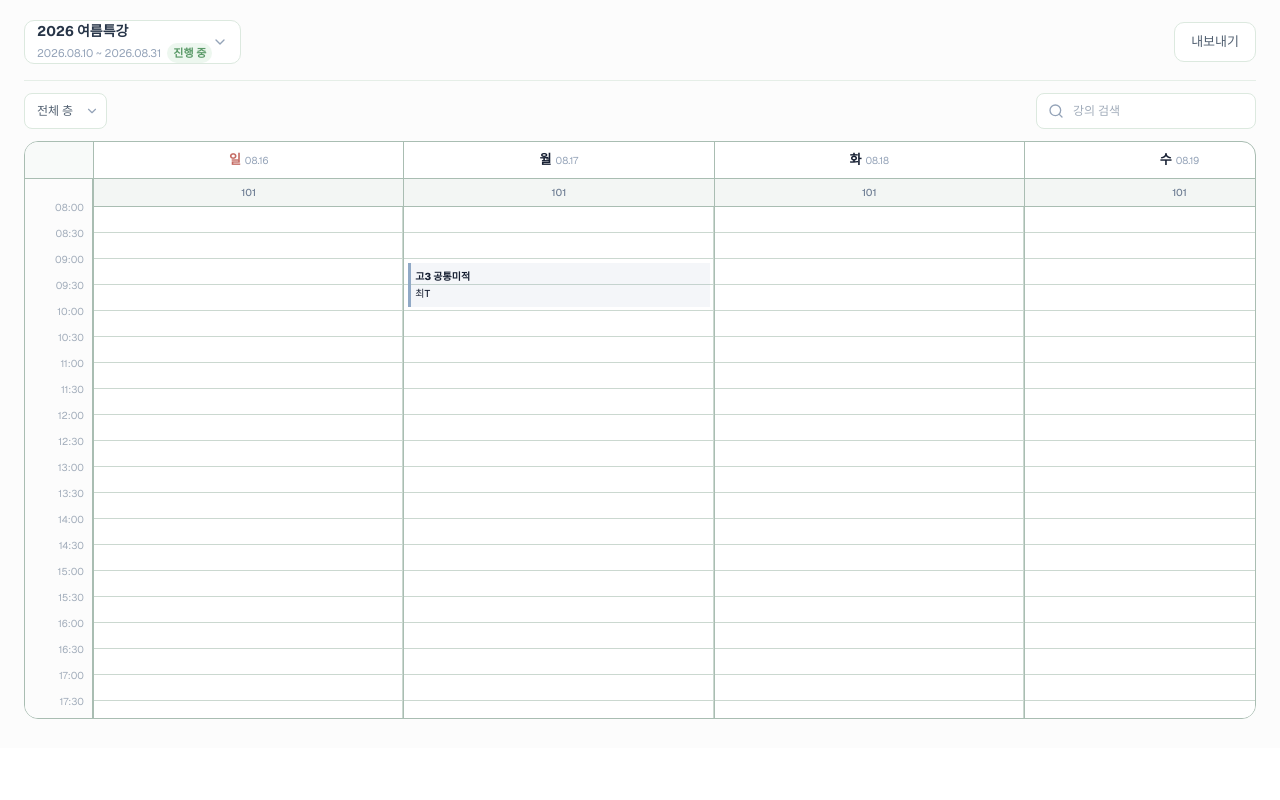
Test case: TimetableContainer › TIMETABLE:MANAGE 권한이 없으면 수업 등록/시간표 관리 버튼을 노출하지 않는다
The width and height of the screenshot is (1280, 800).
Click the button with aria-label "공통미적 수업 상세". click: [443, 276]
box: [408,262,710,306]
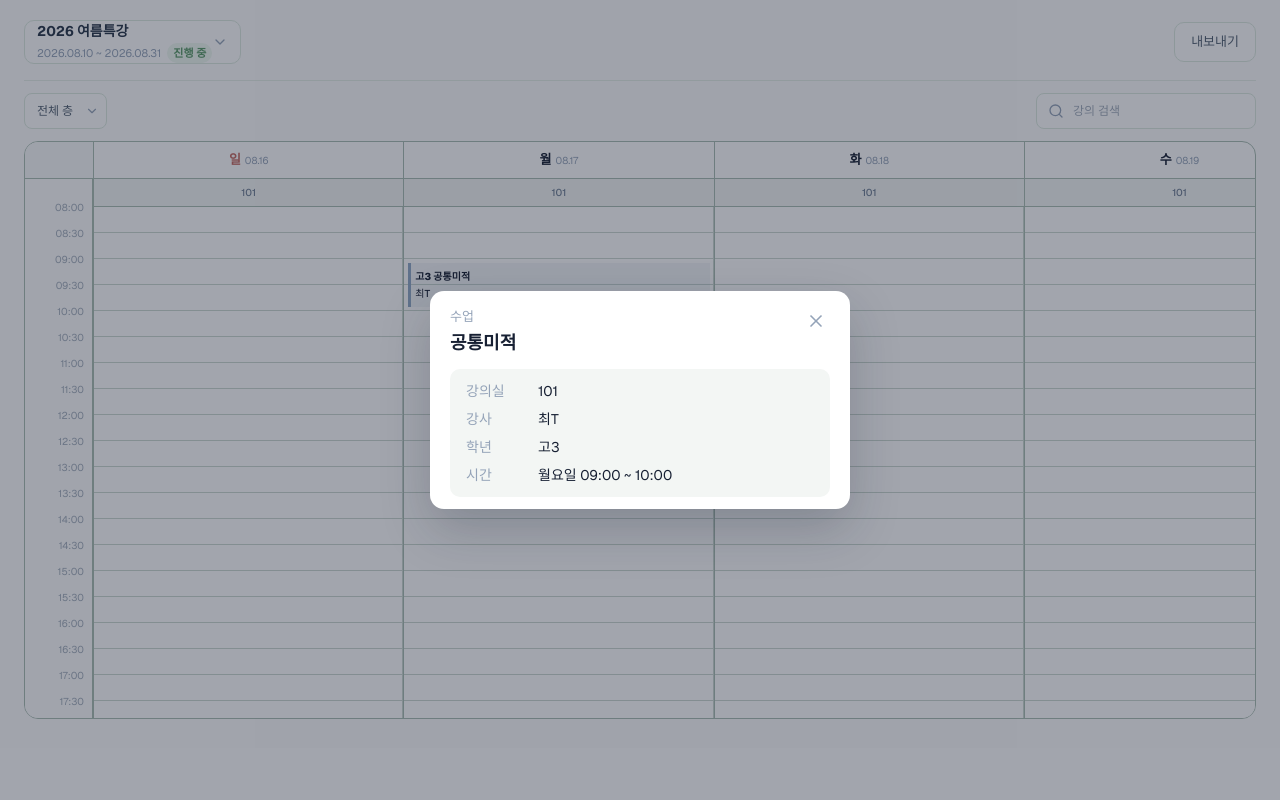
Expected: the heading "공통미적" is shown, [450,329,516,357]
